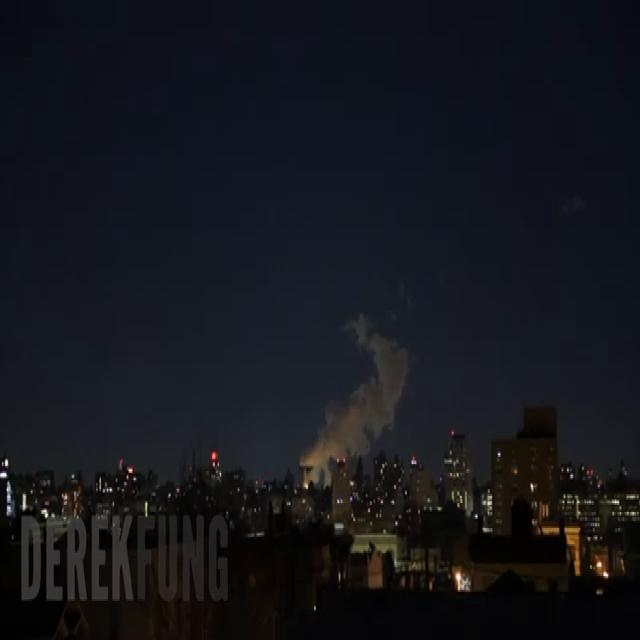smoke: (300, 313, 413, 484)
